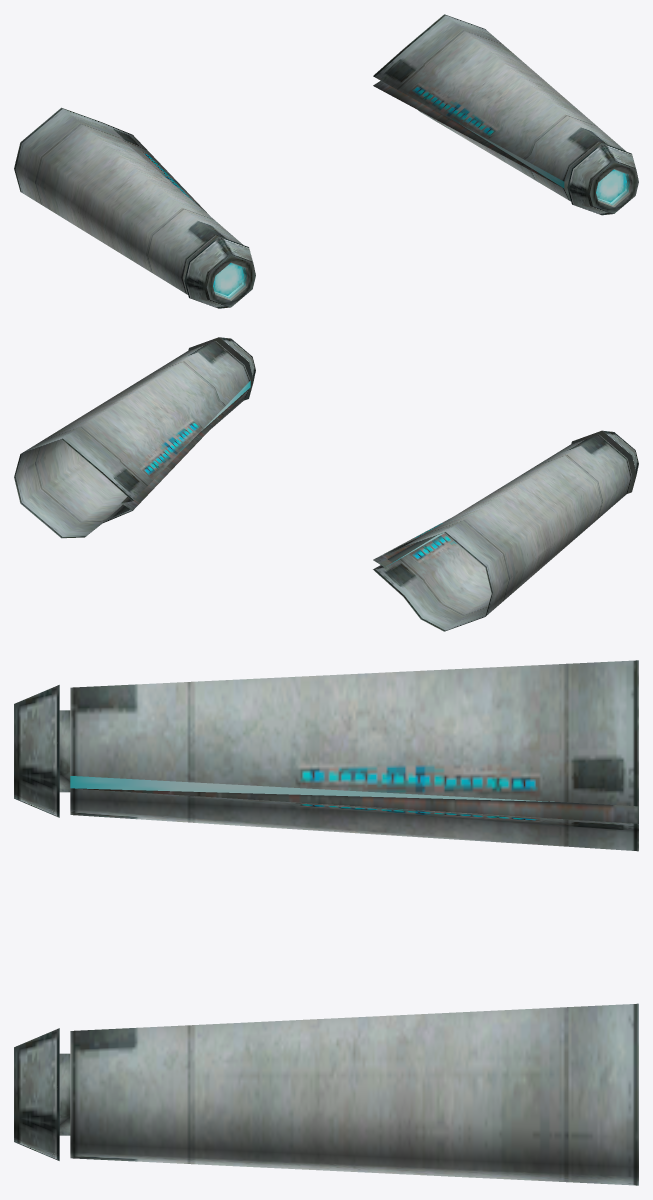
The model's file is ywing_weapon1_s02_l1.fbx.
3 renders of one model, top to bottom at view 1: azimuth 30°, elevation 25°; view 2: azimuth 150°, elevation 25°; view 3: azimuth 270°, elevation 25°, orthographic. The views are drawn at different scales.
Visible parts, largest first — view 1: mesh_node; view 2: mesh_node; view 3: mesh_node.
Boxes of the visible parts, <box> form: mesh_node: <box>14,14,638,308</box>; mesh_node: <box>14,337,638,631</box>; mesh_node: <box>14,660,638,1185</box>.
Bounding box in the file's own units: 1.66 × 0.3282 × 1.02.
Materials: 1 (1 with a texture image).
